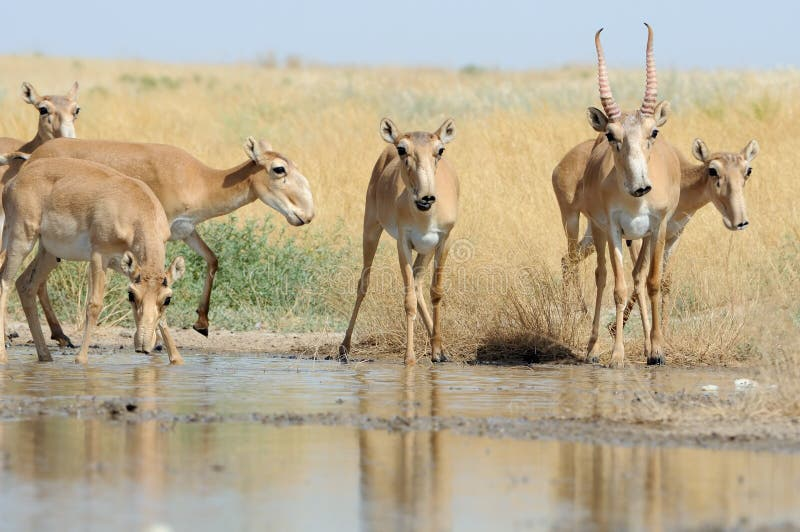saiga: (28, 129, 319, 346), (2, 157, 187, 365), (585, 18, 681, 369), (340, 114, 465, 368)
